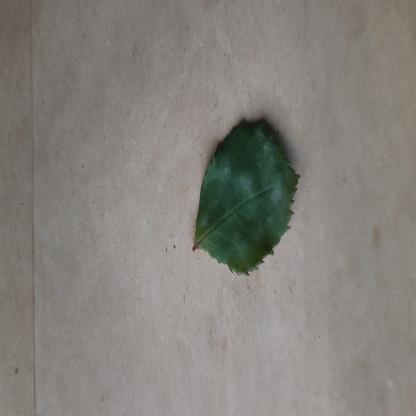powdery-mildew: (196, 116, 304, 275)
